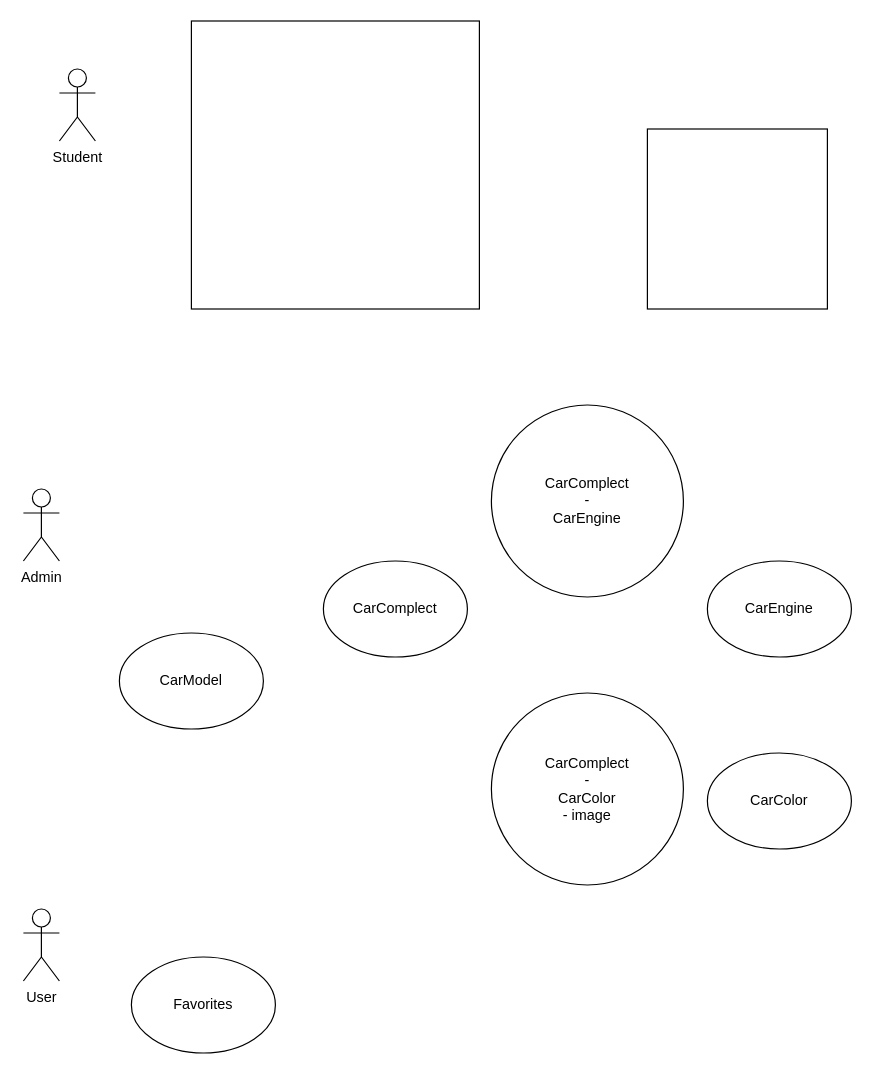
The diagram is 872 pixels wide and 1074 high, and some of its shapes have lost their labels. Each missing label, with the centre of its shape:
"ID String: name String: email String: password Int: age Group: ID" goes at [334,164].
"One" goes at [736,218].
